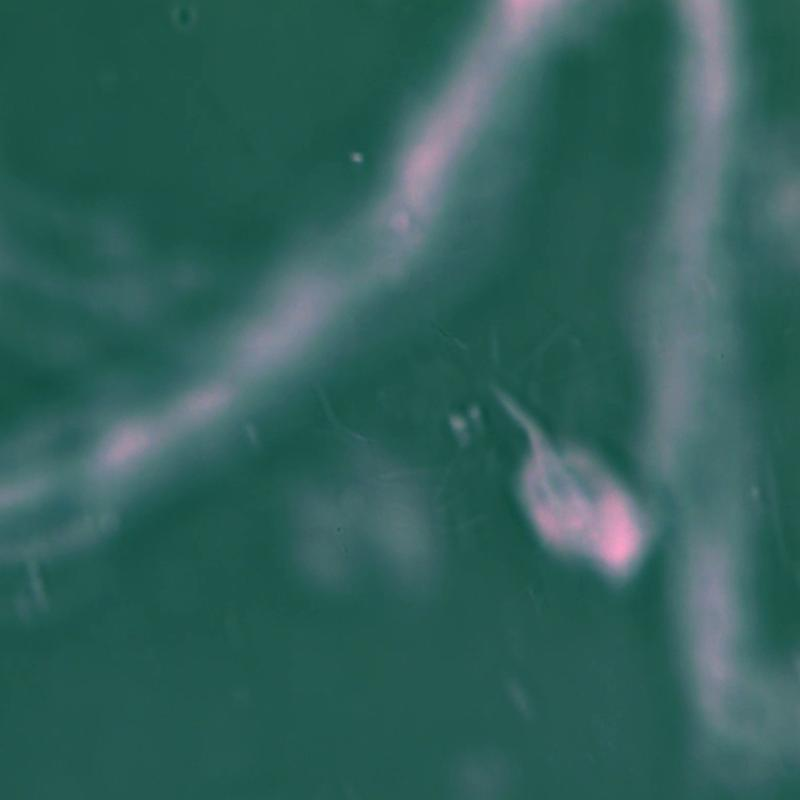depth:100: (462, 367, 670, 583)
